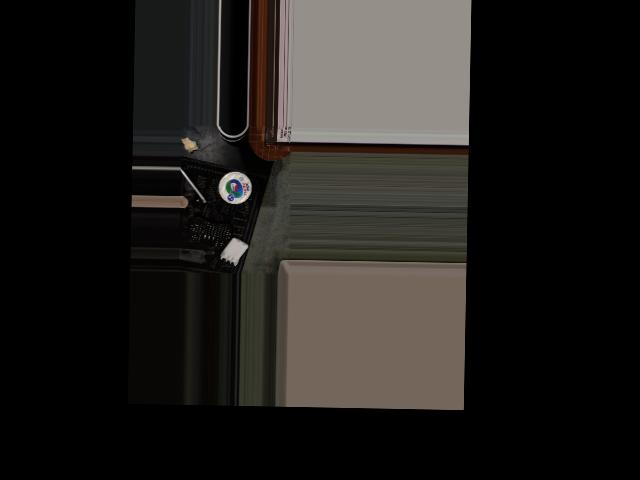cotage: (217, 169, 258, 206)
